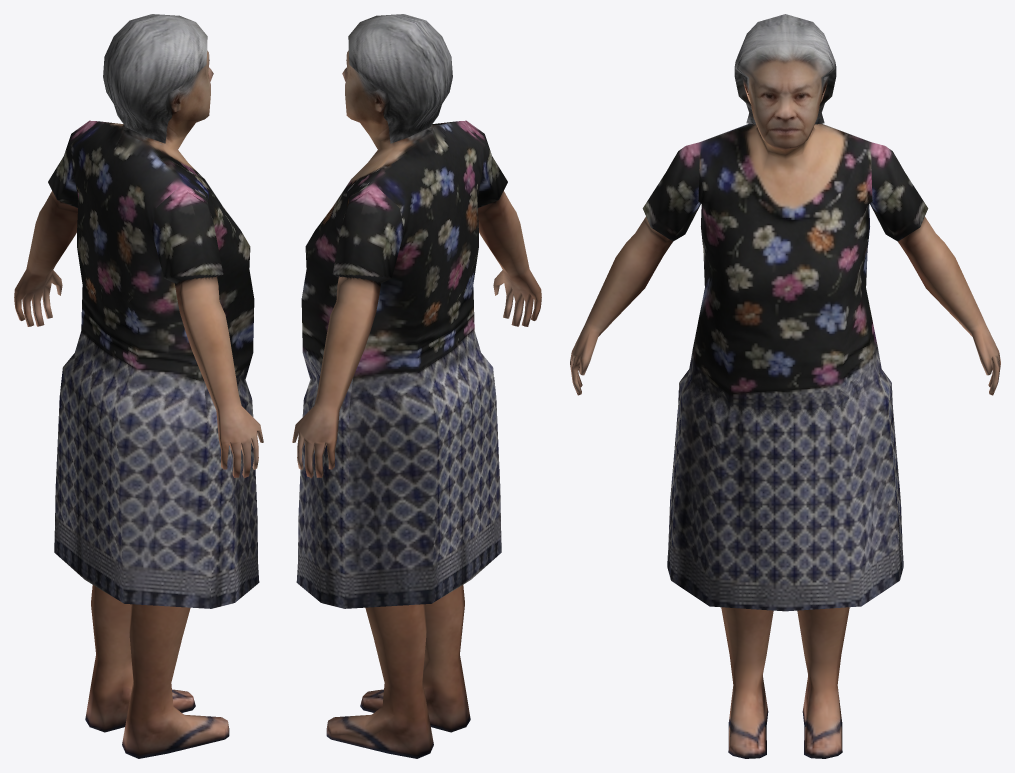
The model's file is Character_51_Female.fbx.
3 renders of one model, left to right at view 1: azimuth 30°, elevation 25°; view 2: azimuth 150°, elevation 25°; view 3: azimuth 270°, elevation 25°, orthographic.
Parts seen in each view (by area): view 1: Character_51_Female; view 2: Character_51_Female; view 3: Character_51_Female.
Boxes of the visible parts, box(x1,y1,x2,y2) form: Character_51_Female: box(14, 14, 263, 758); Character_51_Female: box(292, 14, 541, 758); Character_51_Female: box(570, 14, 1000, 758).
Size of the model in its own units: 0.3236 by 1.52 by 0.8286.
